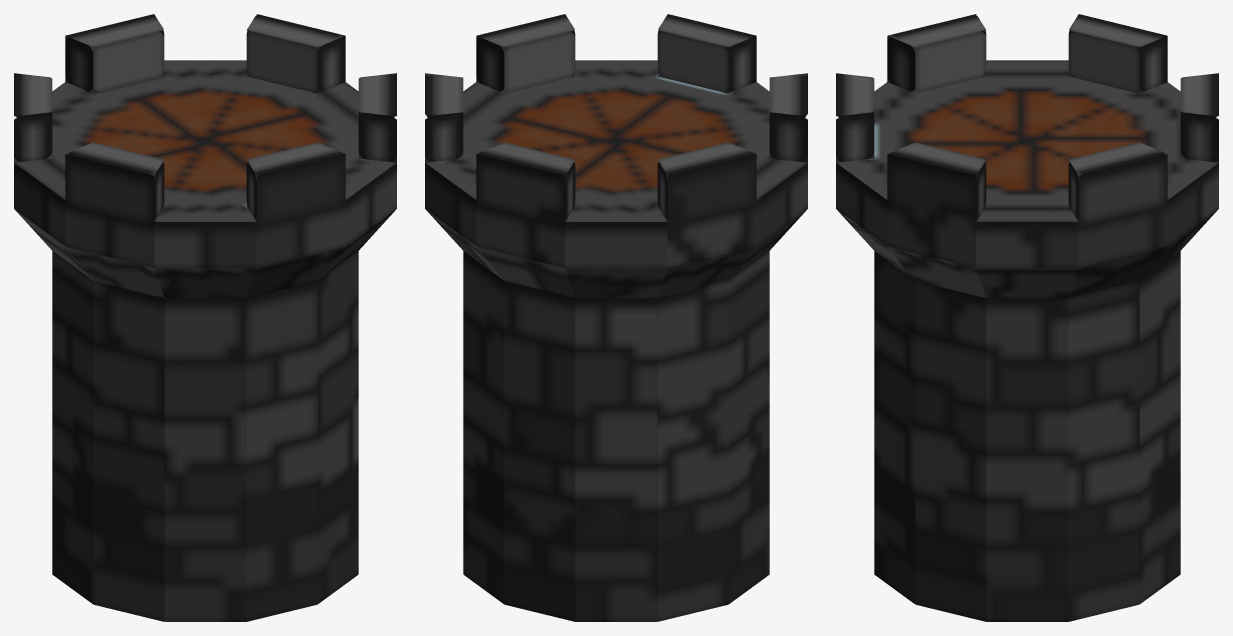
Rendered from torre.obj.
3 renders of one model, left to right at view 1: azimuth 30°, elevation 25°; view 2: azimuth 150°, elevation 25°; view 3: azimuth 270°, elevation 25°, orthographic.
Parts seen in each view (by area): view 1: cylinder; view 2: cylinder; view 3: cylinder.
Boxes of the visible parts, <box> form: cylinder: <box>14,14,396,621</box>; cylinder: <box>425,14,807,621</box>; cylinder: <box>836,14,1218,621</box>.
Size of the model in its own units: 1.88 by 2.5 by 1.88.
Materials: 1 (1 with a texture image).
